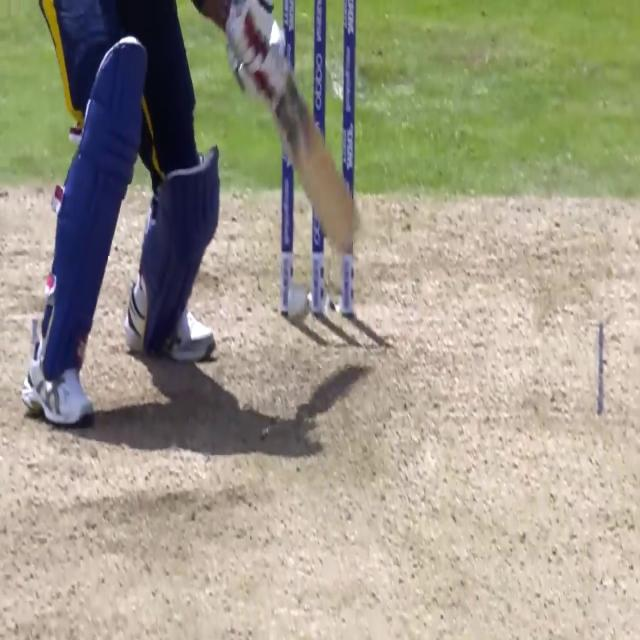ball: (282, 290, 308, 324)
